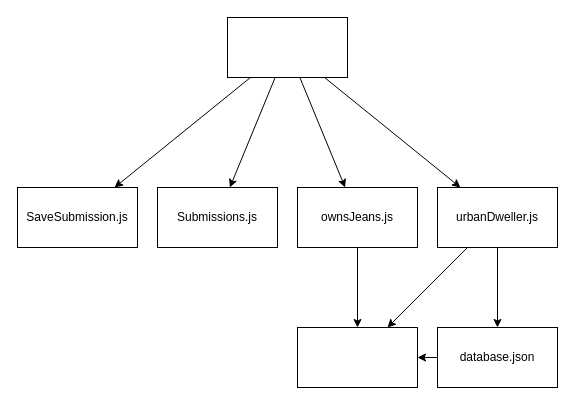
The diagram is 575 pixels wide and 405 high, and some of its shapes have lost their labels. Here are the shapes that lost their labels. From the top down, the centre of each, then its label:
point 287,47: main.js
point 357,357: TransientState.js
